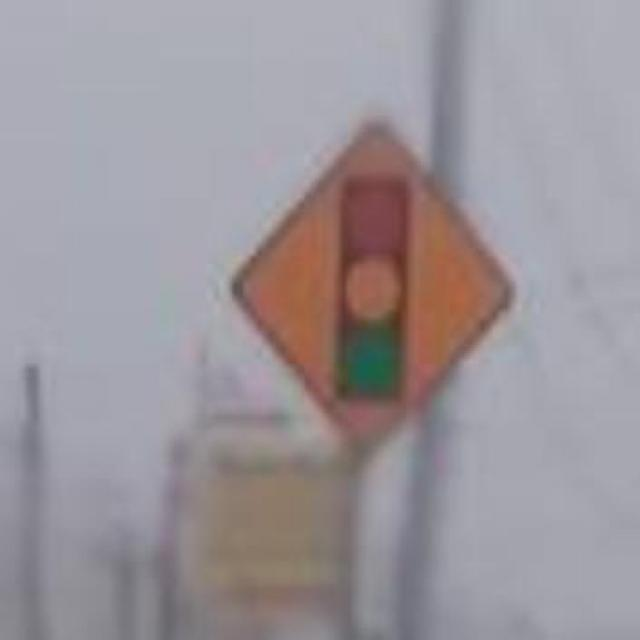traffic sign: (238, 126, 508, 452)
